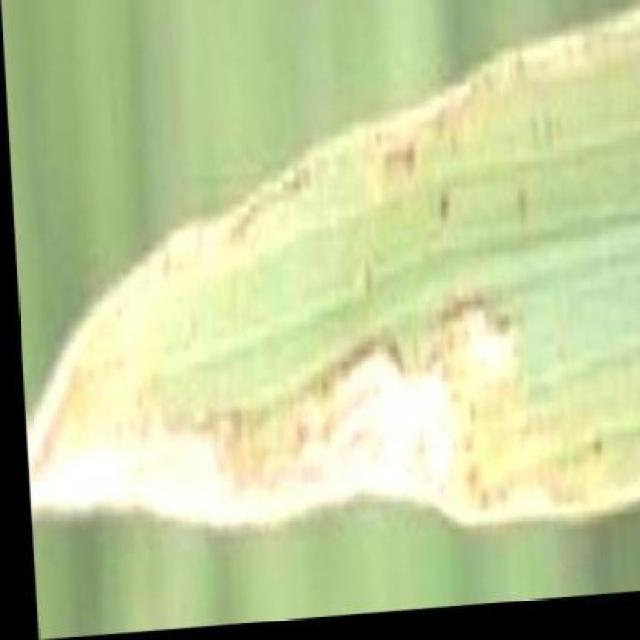Brown_Spot: (12, 115, 640, 556)
